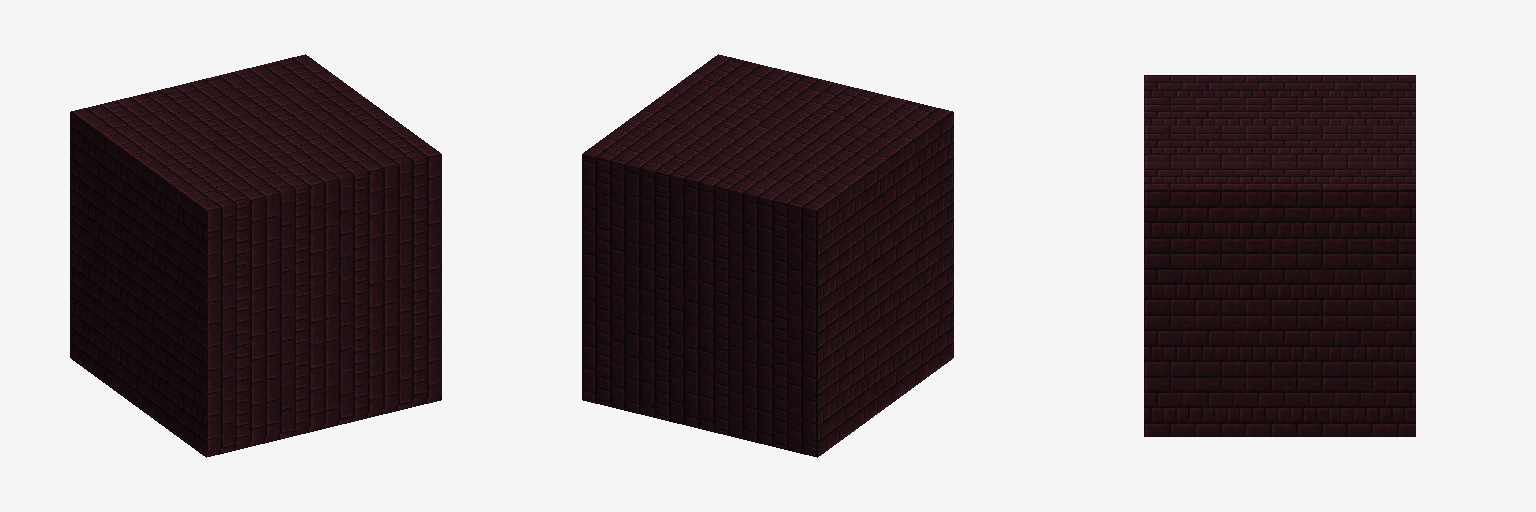
The picture shows the model from 3 angles: view 1: azimuth 30°, elevation 25°; view 2: azimuth 150°, elevation 25°; view 3: azimuth 270°, elevation 25°; orthographic projection.
Visible parts, largest first — view 1: Grass_Block_Cube; view 2: Grass_Block_Cube; view 3: Grass_Block_Cube.
Boxes of the visible parts, x1,y1,x2,y2 form: Grass_Block_Cube: [70, 54, 441, 457]; Grass_Block_Cube: [582, 54, 953, 457]; Grass_Block_Cube: [1144, 75, 1415, 436].
Bounding box in the file's own units: 2 × 2 × 2.
1 materials, 1 textured.